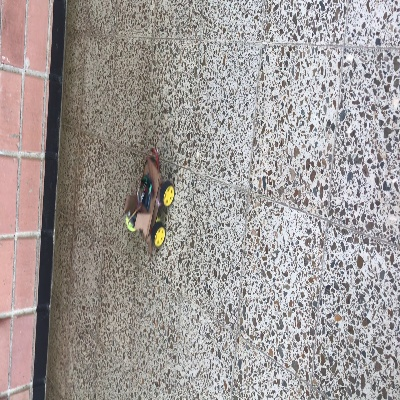Ball: (125, 217, 134, 230)
Robot: (127, 156, 175, 251)
